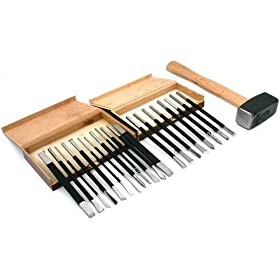hammer: (166, 56, 280, 133)
